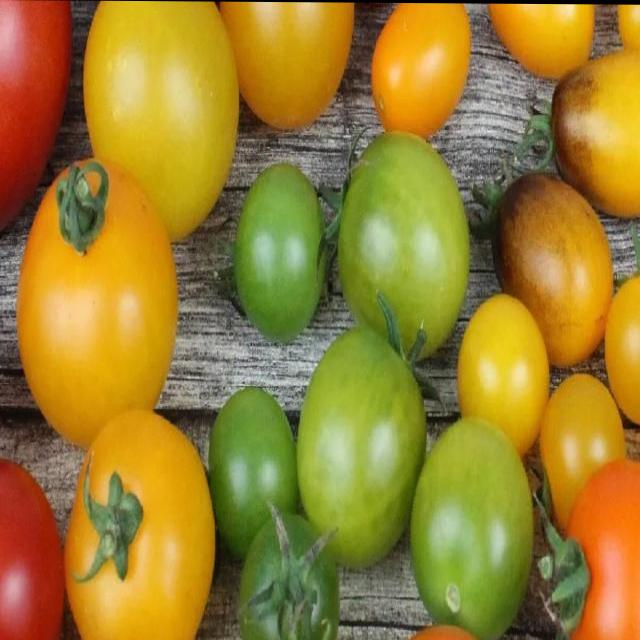sari: (14, 170, 174, 421)
yesil: (214, 159, 412, 546)
